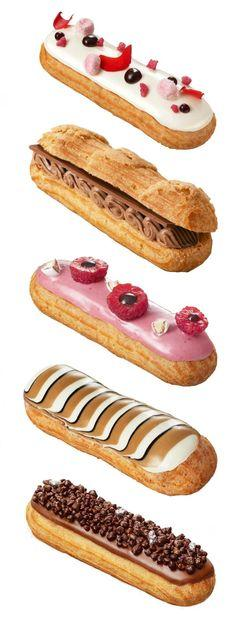eclair: (16, 117, 224, 282), (29, 261, 218, 388), (35, 9, 216, 138), (19, 496, 222, 608), (19, 377, 218, 491)
